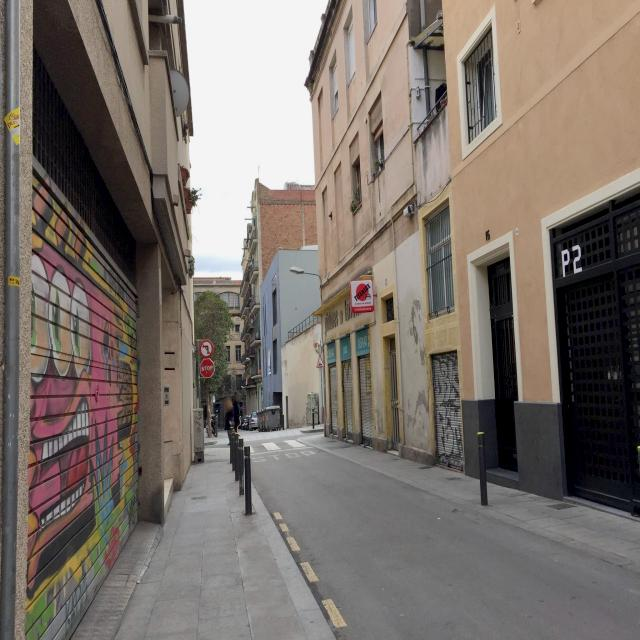car: (258, 405, 281, 432), (248, 412, 258, 431), (241, 415, 250, 430)
